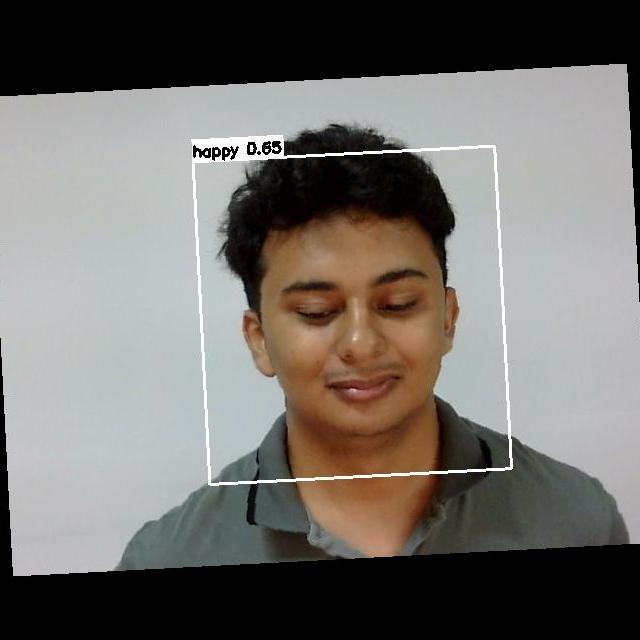Happy: (247, 246, 445, 424)
